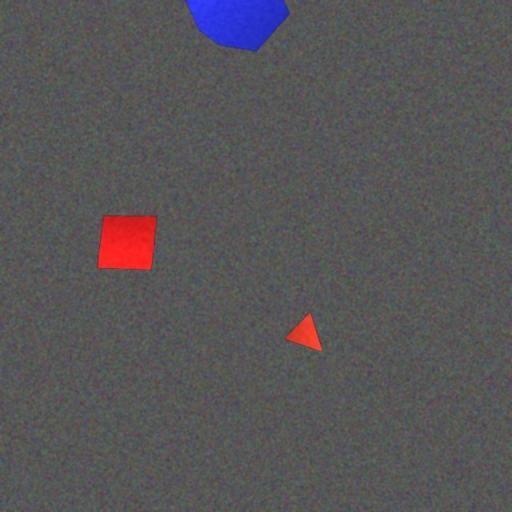RED_SQUARE: (96, 216, 158, 270)
